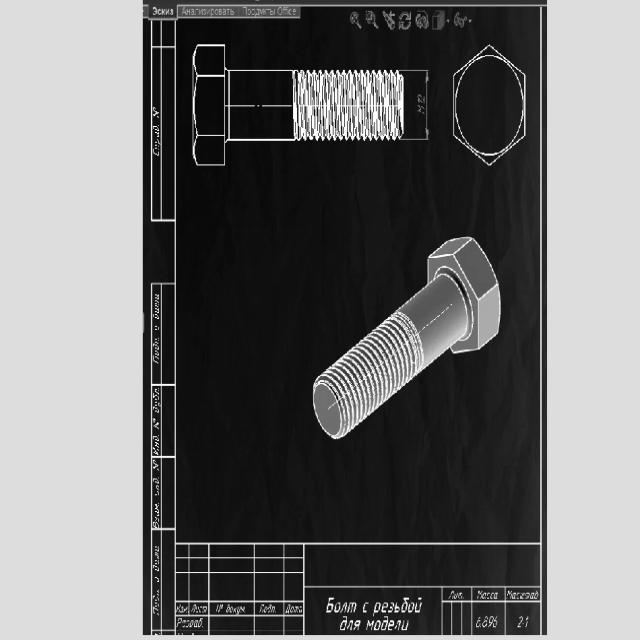marking_line: (424, 72, 430, 139)
